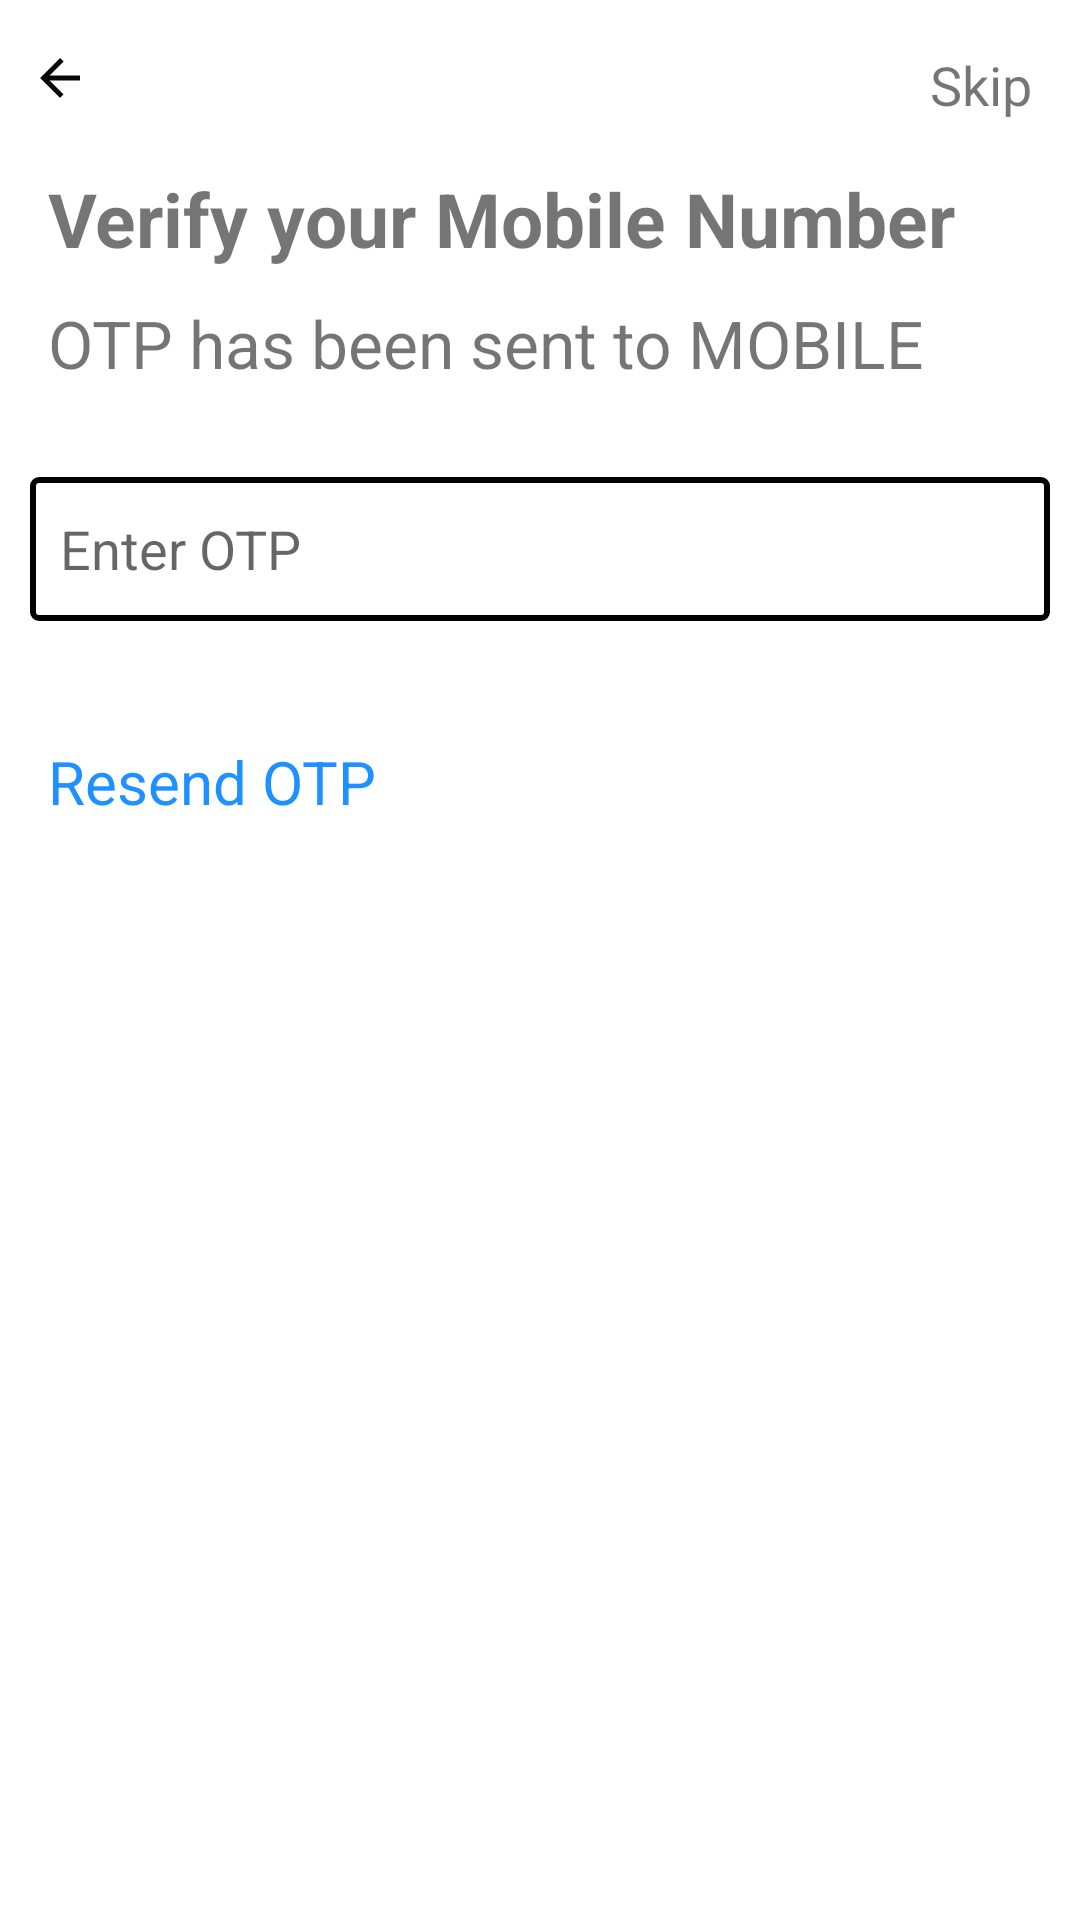

Point at icon controls on the screen. Image size 1080px x 1920px, points as [x,y].
arrow back: [60,78]
